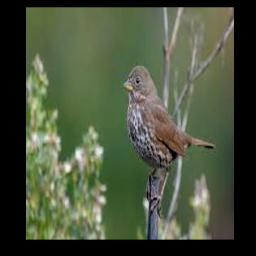Sparrow: (124, 64, 215, 218)
